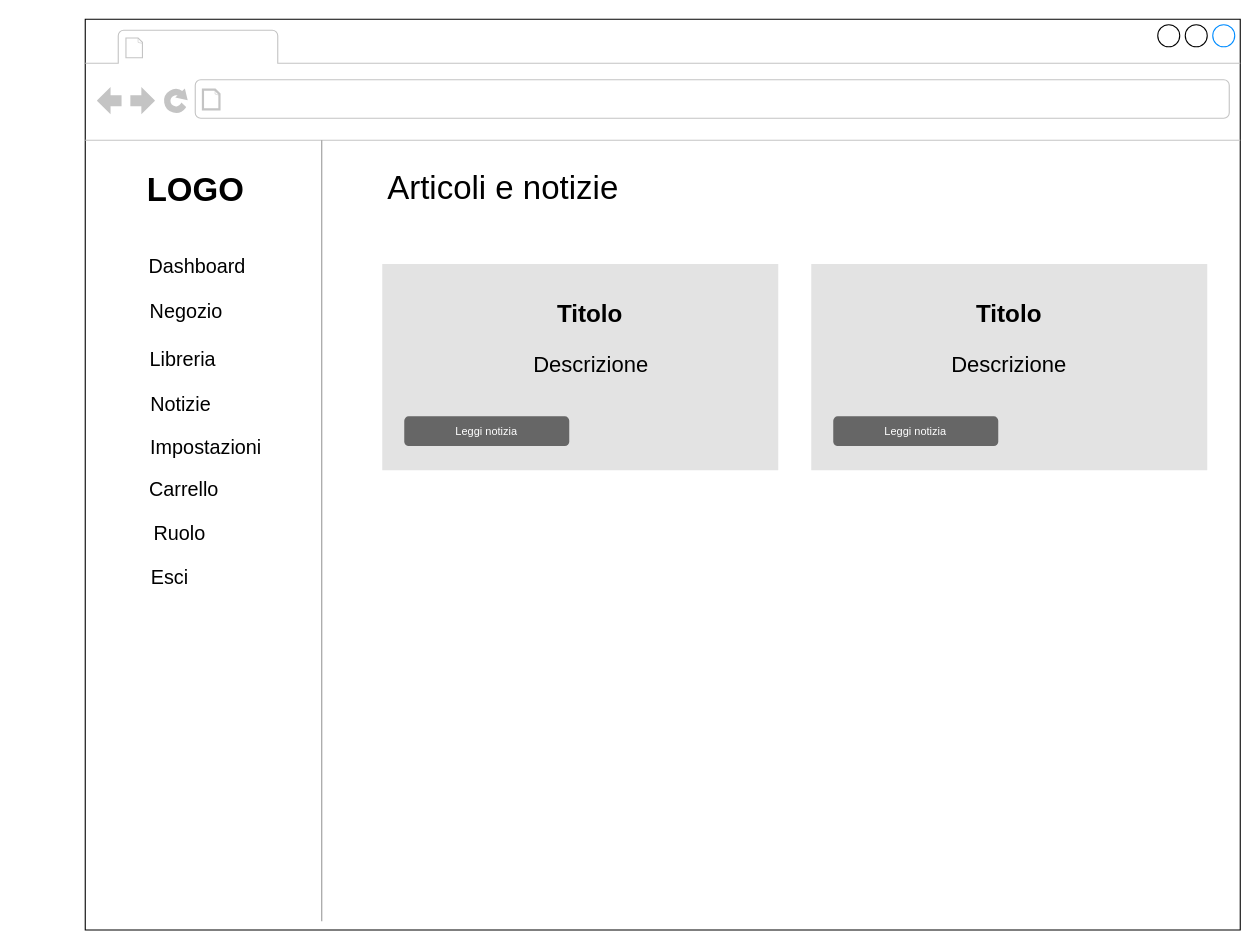
Image size: 1260x949. Some labels were removed from this diagram. Each missing label, with the centre of its shape:
https://www.default.com: the point at 365,99
Page 1: the point at 211,46
